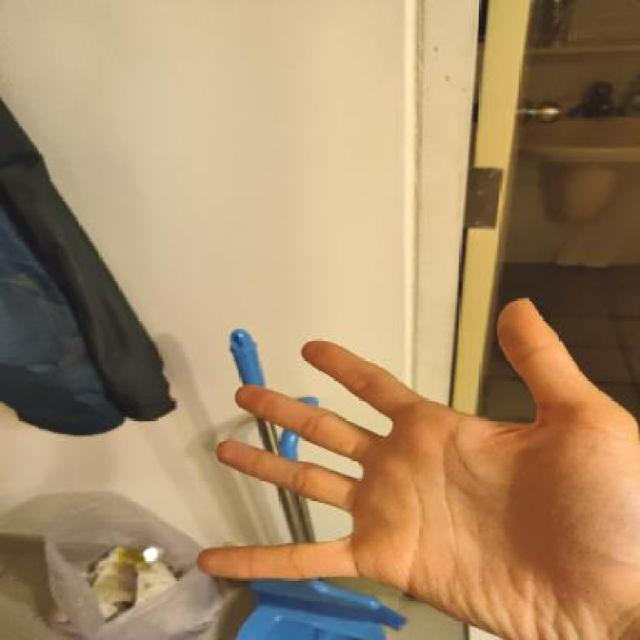no_glove: (183, 278, 640, 638)
